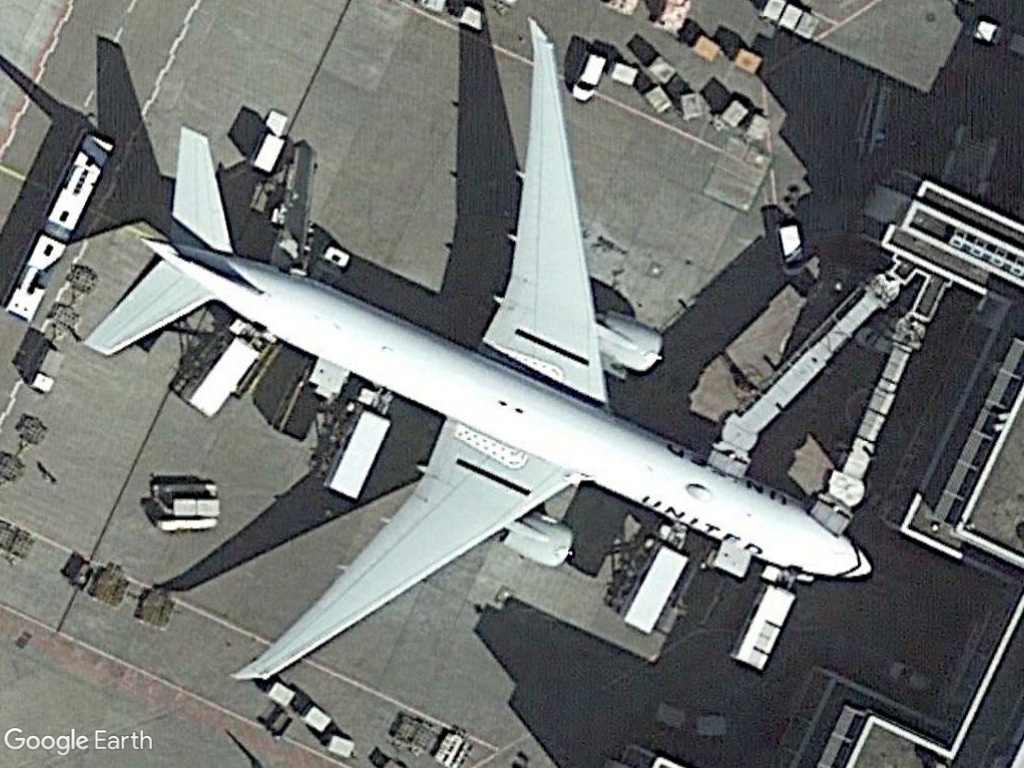airliner: (88, 17, 874, 690)
bus: (0, 130, 114, 327)
pushbacktruck: (148, 479, 224, 533)
